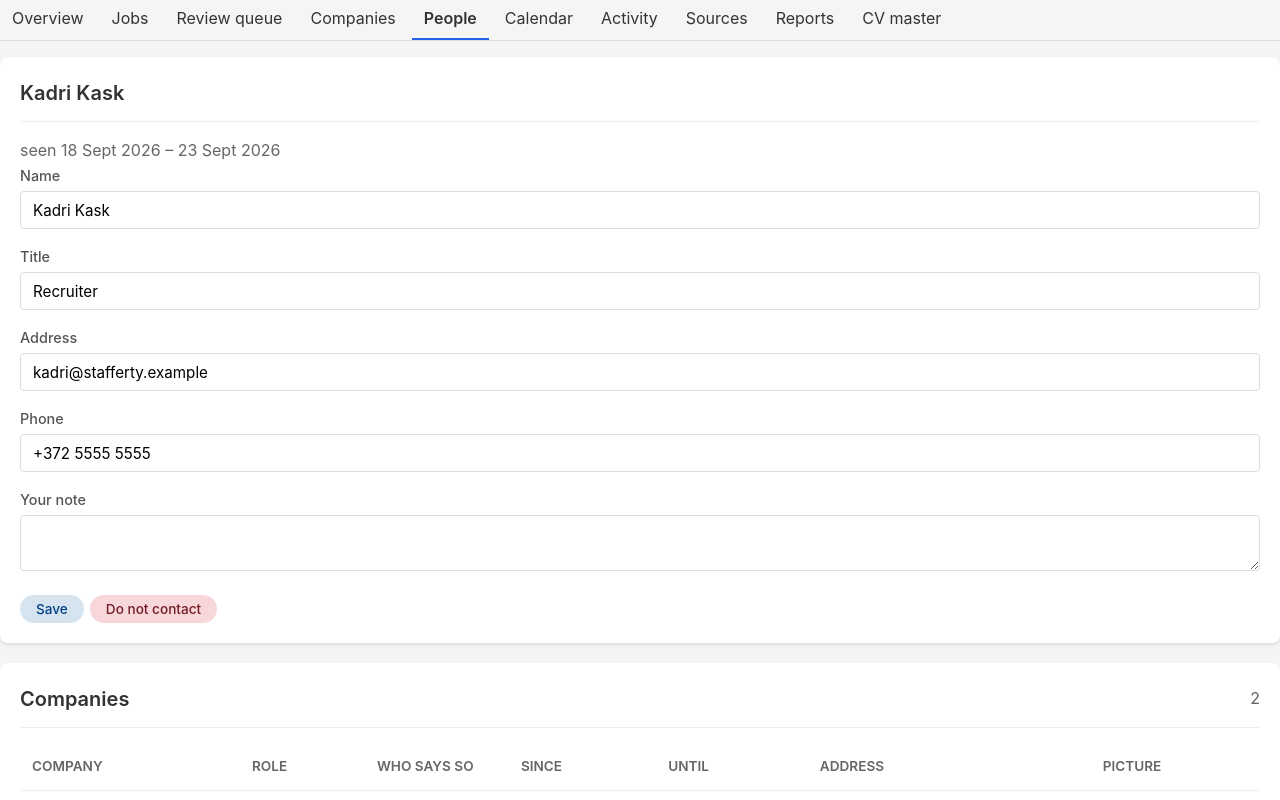
MasiPersonDetail › saves only what was changed, and shows the refusal the server gives
Click the button "Save" at [52, 609], box [20, 595, 84, 623]
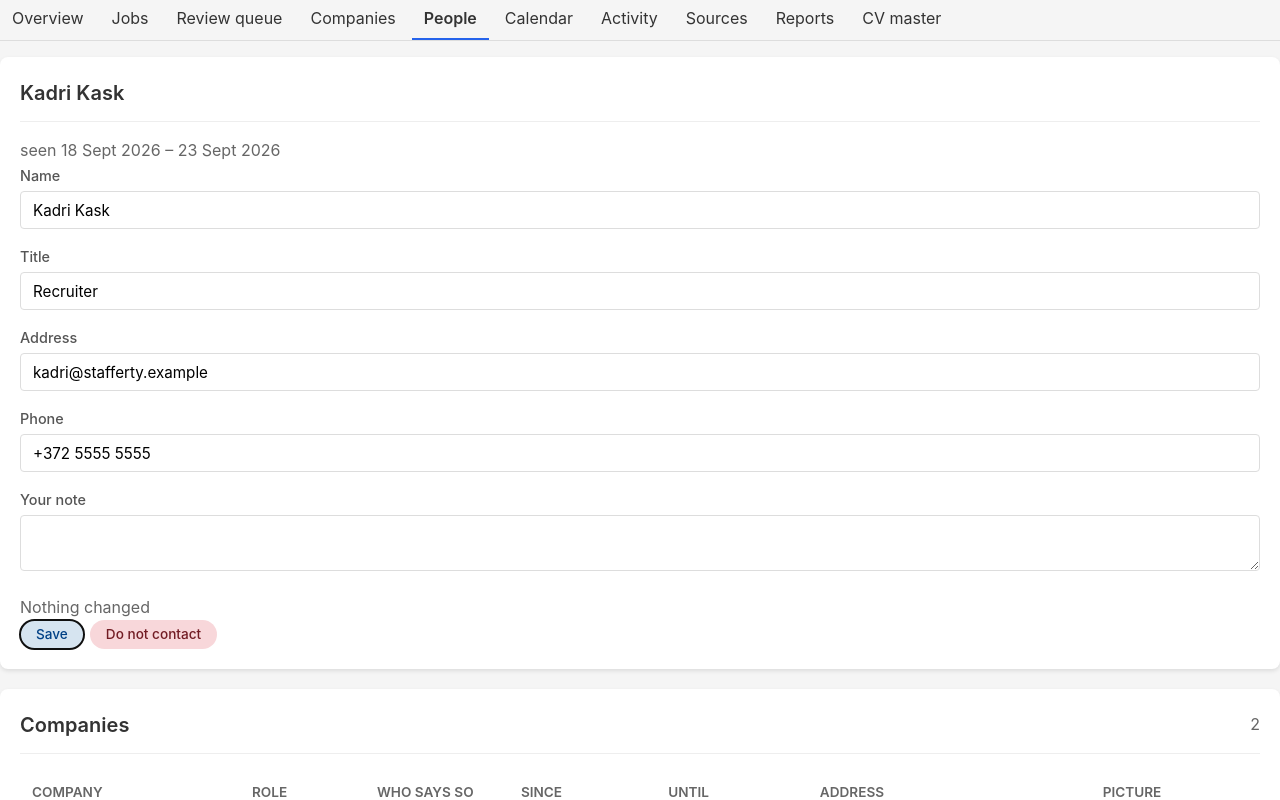
Check: the text "Nothing changed" is shown, box [20, 597, 150, 617]
Replace the text in the field labelled "Title" with "Head of Talent" at [640, 291], box [20, 272, 1260, 310]
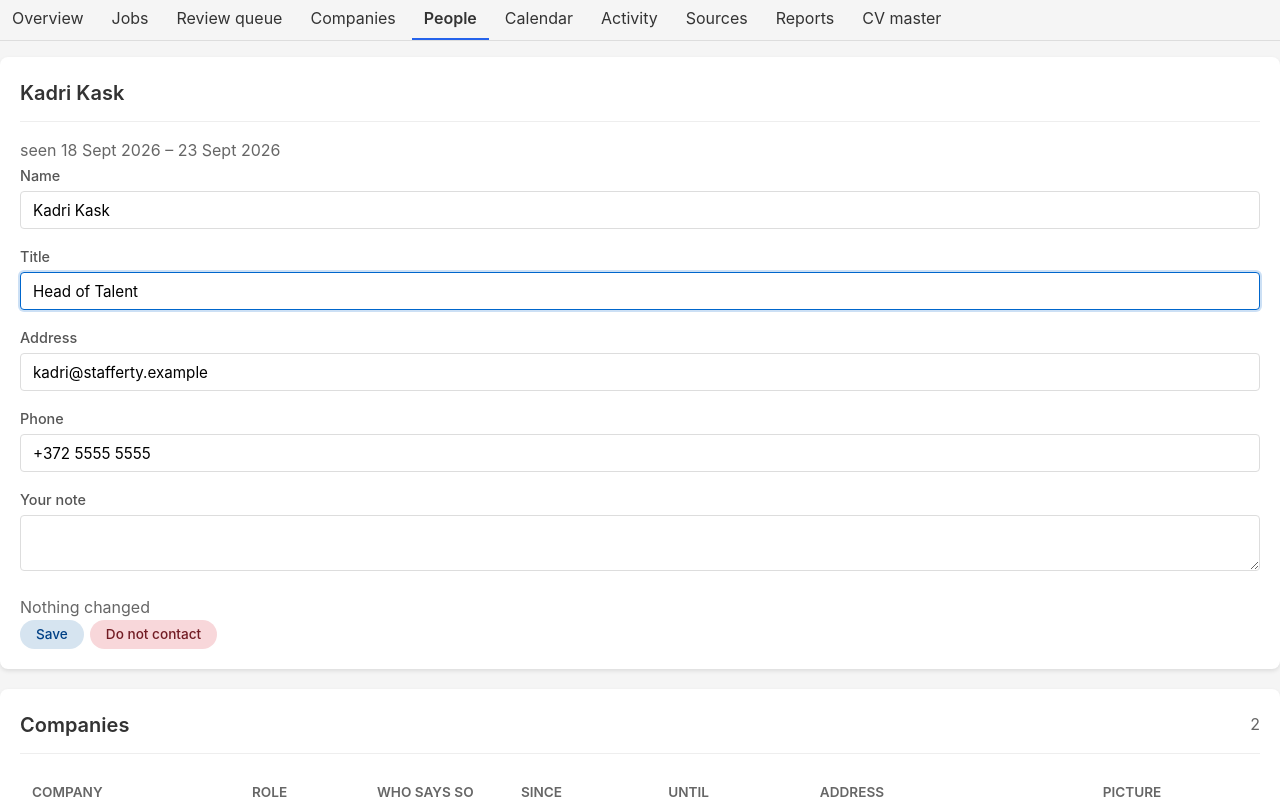
Type "prefers mail" into the text box labelled "Your note" at [640, 543], box [20, 515, 1260, 571]
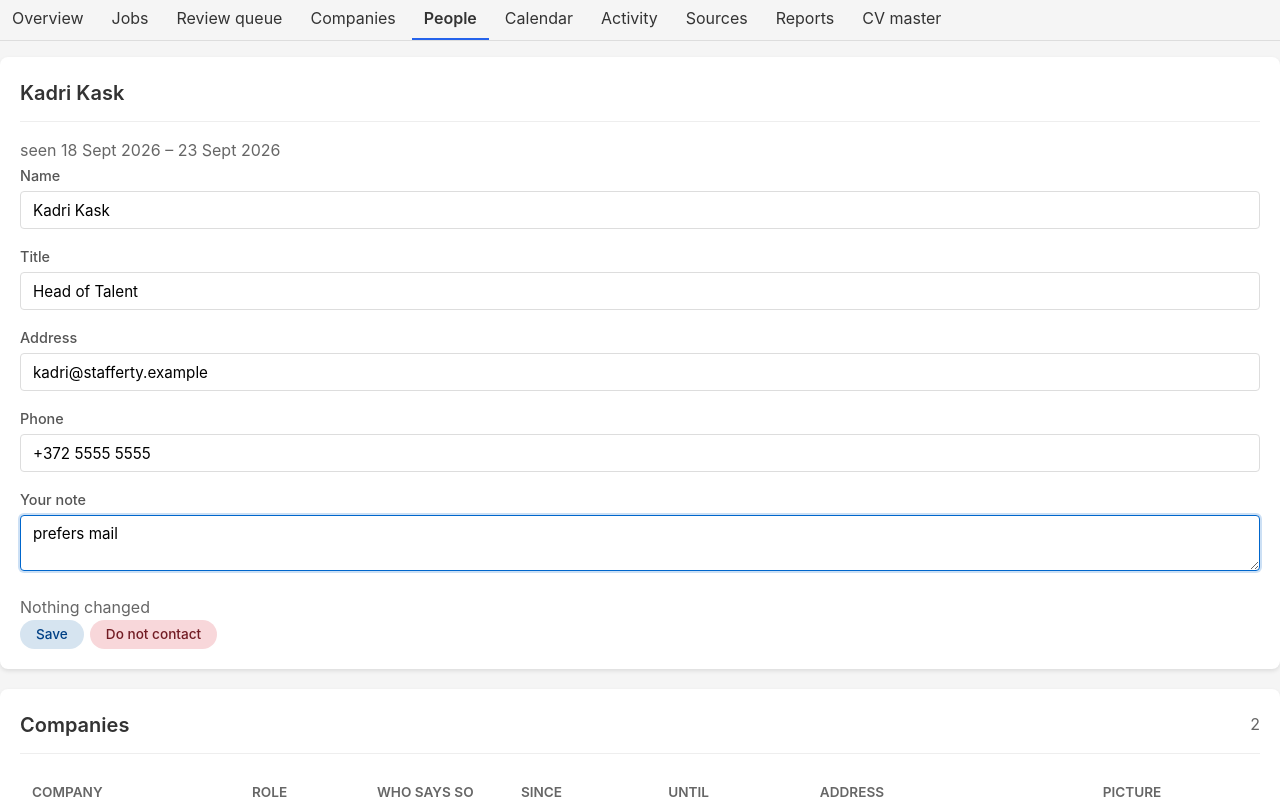
Click the button "Save" at [52, 635], box [20, 620, 84, 649]
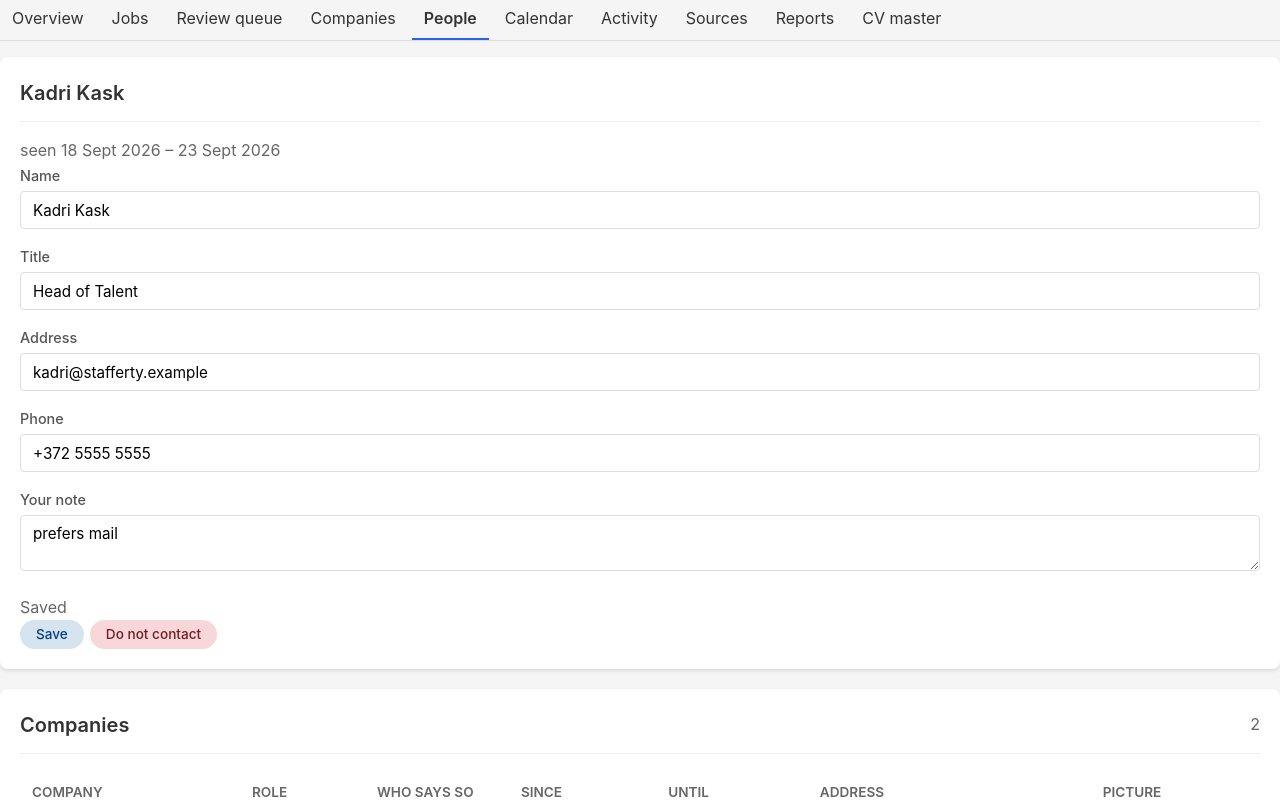
Check: the text "Saved" is shown, box [20, 597, 67, 617]
Replace the text in the field labelled "Address" with "noreply@cv.ee" at [640, 372], box [20, 353, 1260, 391]
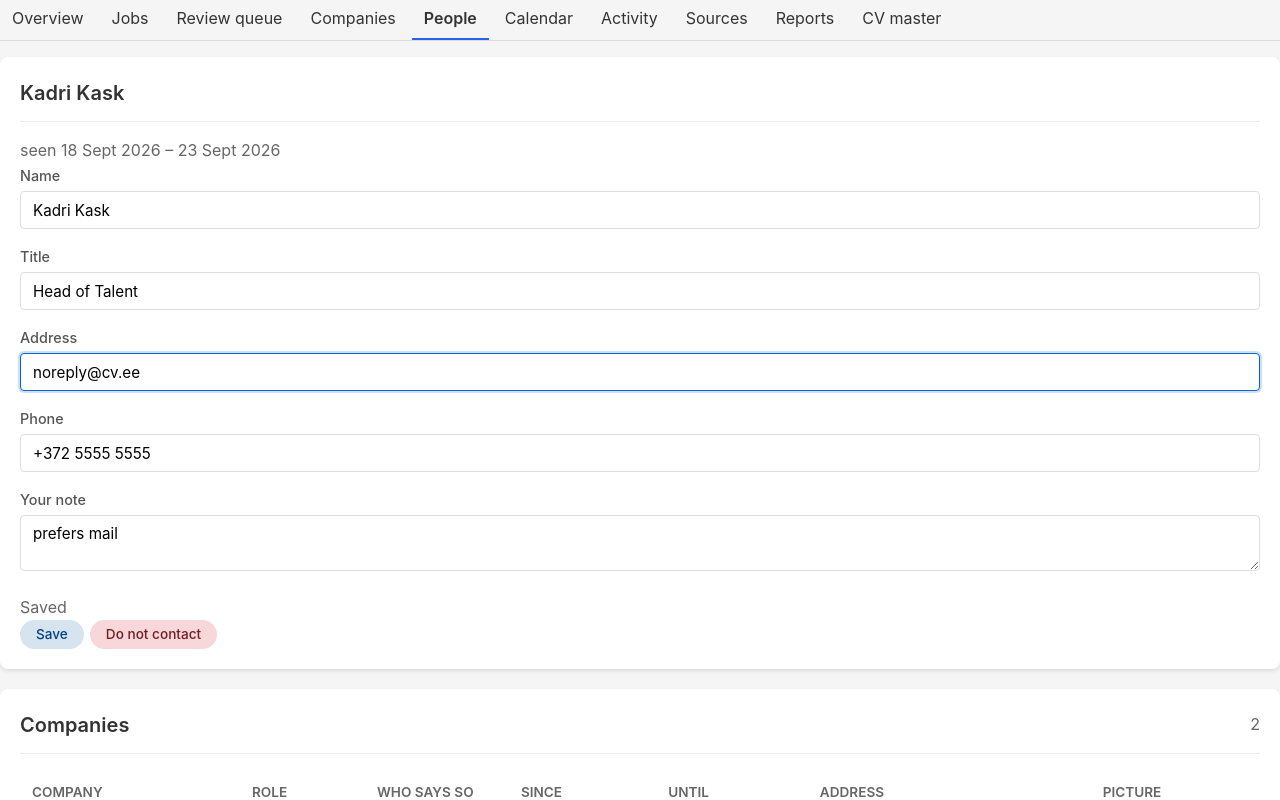
Click the button "Save" at [52, 635], box [20, 620, 84, 649]
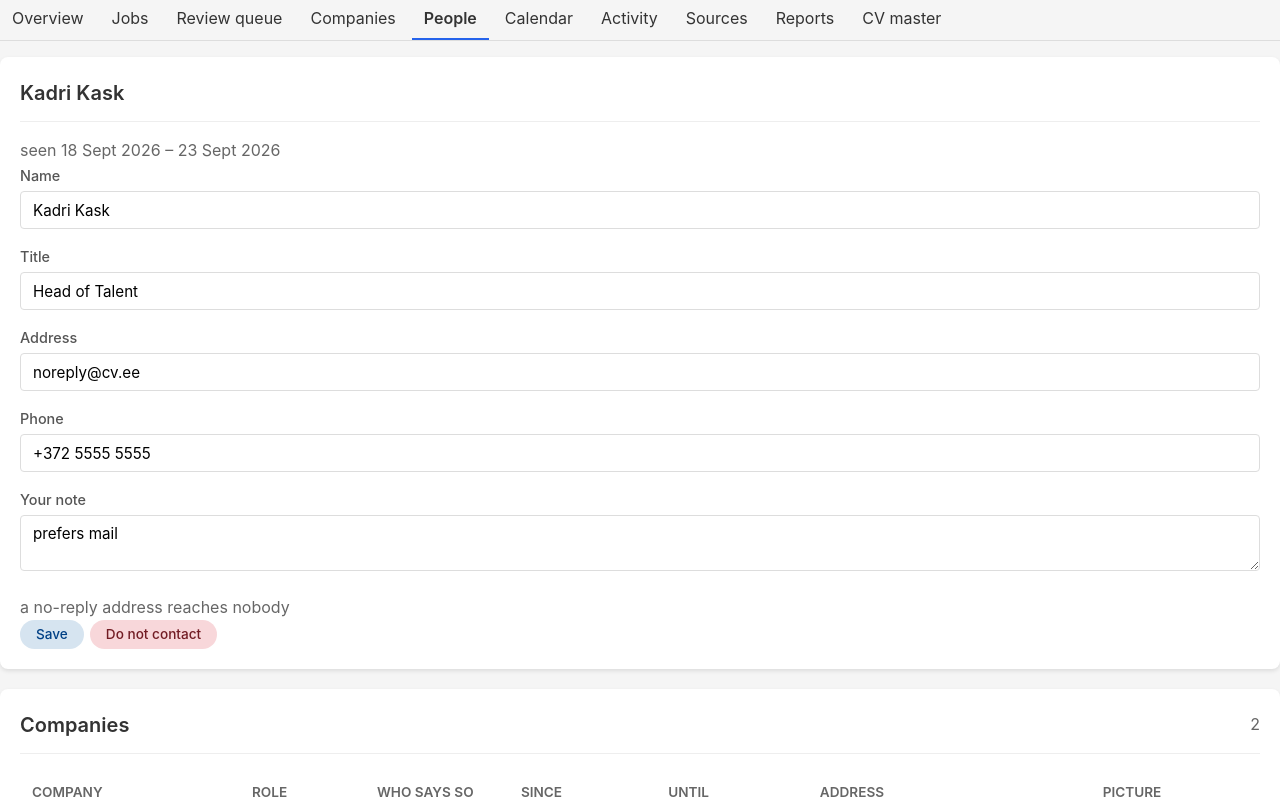
Check: the text "a no-reply address reaches nobody" is shown, box [20, 597, 290, 617]
